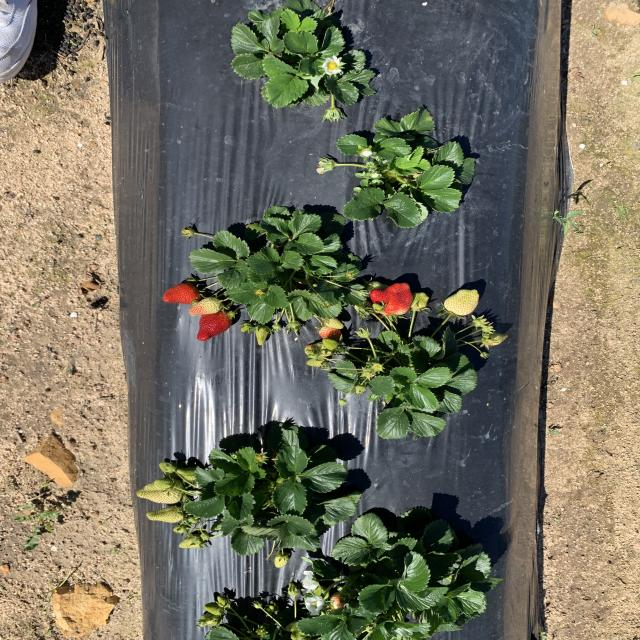unripe: (369, 280, 415, 320), (194, 304, 242, 342), (162, 280, 206, 306)
